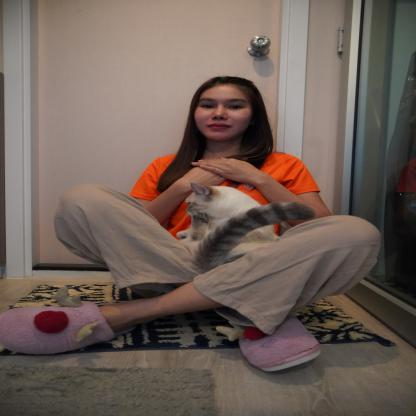Grieve: (168, 155, 283, 187)
